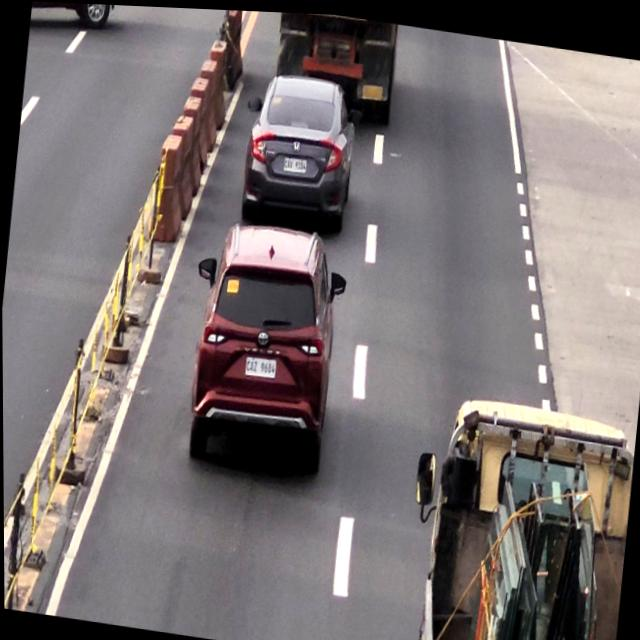Car: (187, 212, 343, 470), (239, 66, 357, 222)
License-Plate: (242, 350, 277, 379), (280, 152, 309, 174)
Truck: (412, 395, 637, 640)
